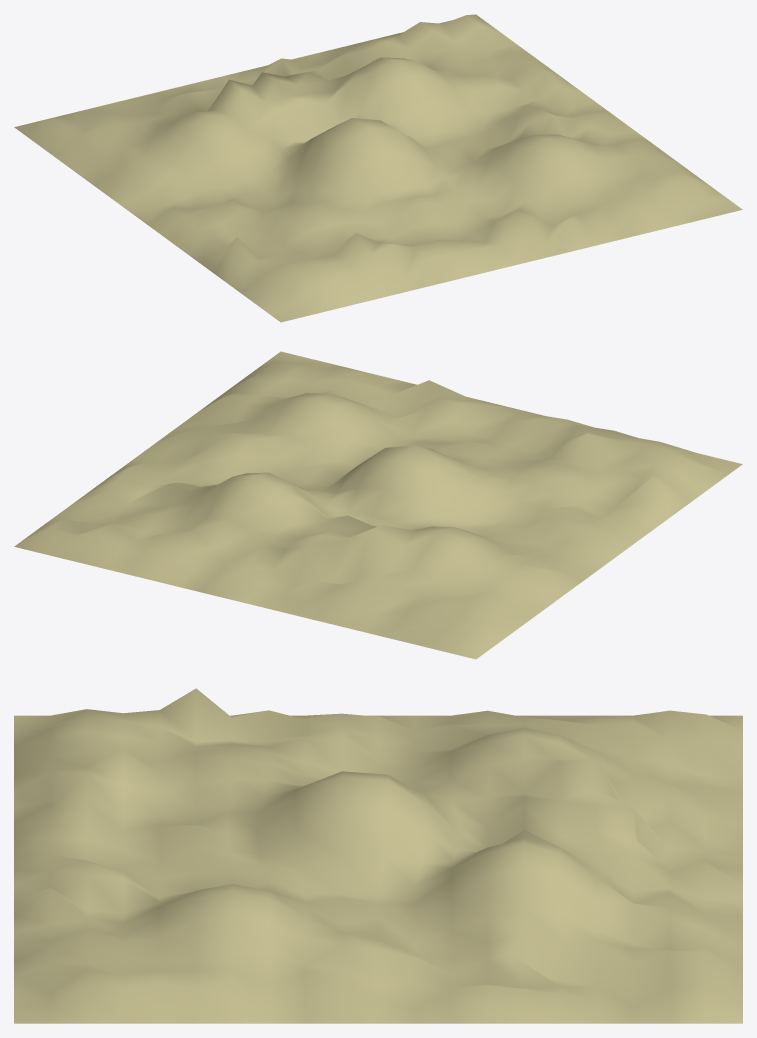
File: NONwalkingTile.fbx
3 renders of one model, top to bottom at view 1: azimuth 30°, elevation 25°; view 2: azimuth 150°, elevation 25°; view 3: azimuth 270°, elevation 25°, orthographic. The views are drawn at different scales.
Parts seen in each view (by area): view 1: NONwalkingTile; view 2: NONwalkingTile; view 3: NONwalkingTile.
Boxes of the visible parts, box(x1,y1,x2,y2) form: NONwalkingTile: box(14, 14, 742, 322); NONwalkingTile: box(14, 351, 742, 659); NONwalkingTile: box(14, 688, 742, 1023).
Bounding box in the file's own units: 23.9 × 2.77 × 23.9.
